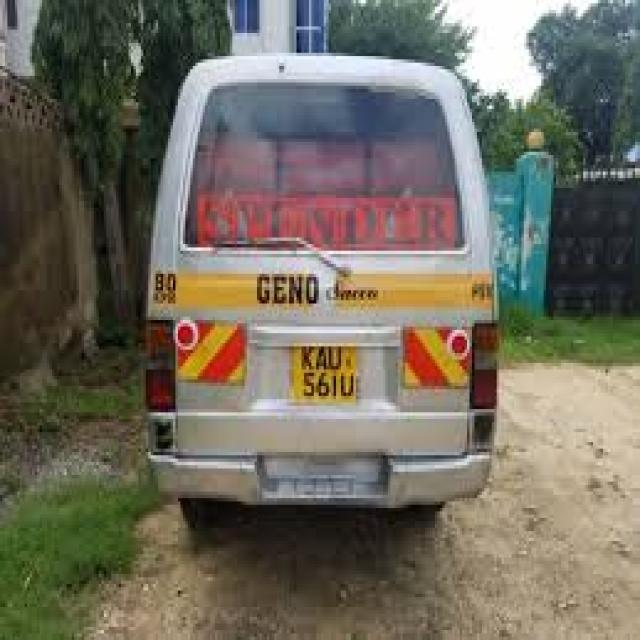matatu: (125, 0, 615, 603)
